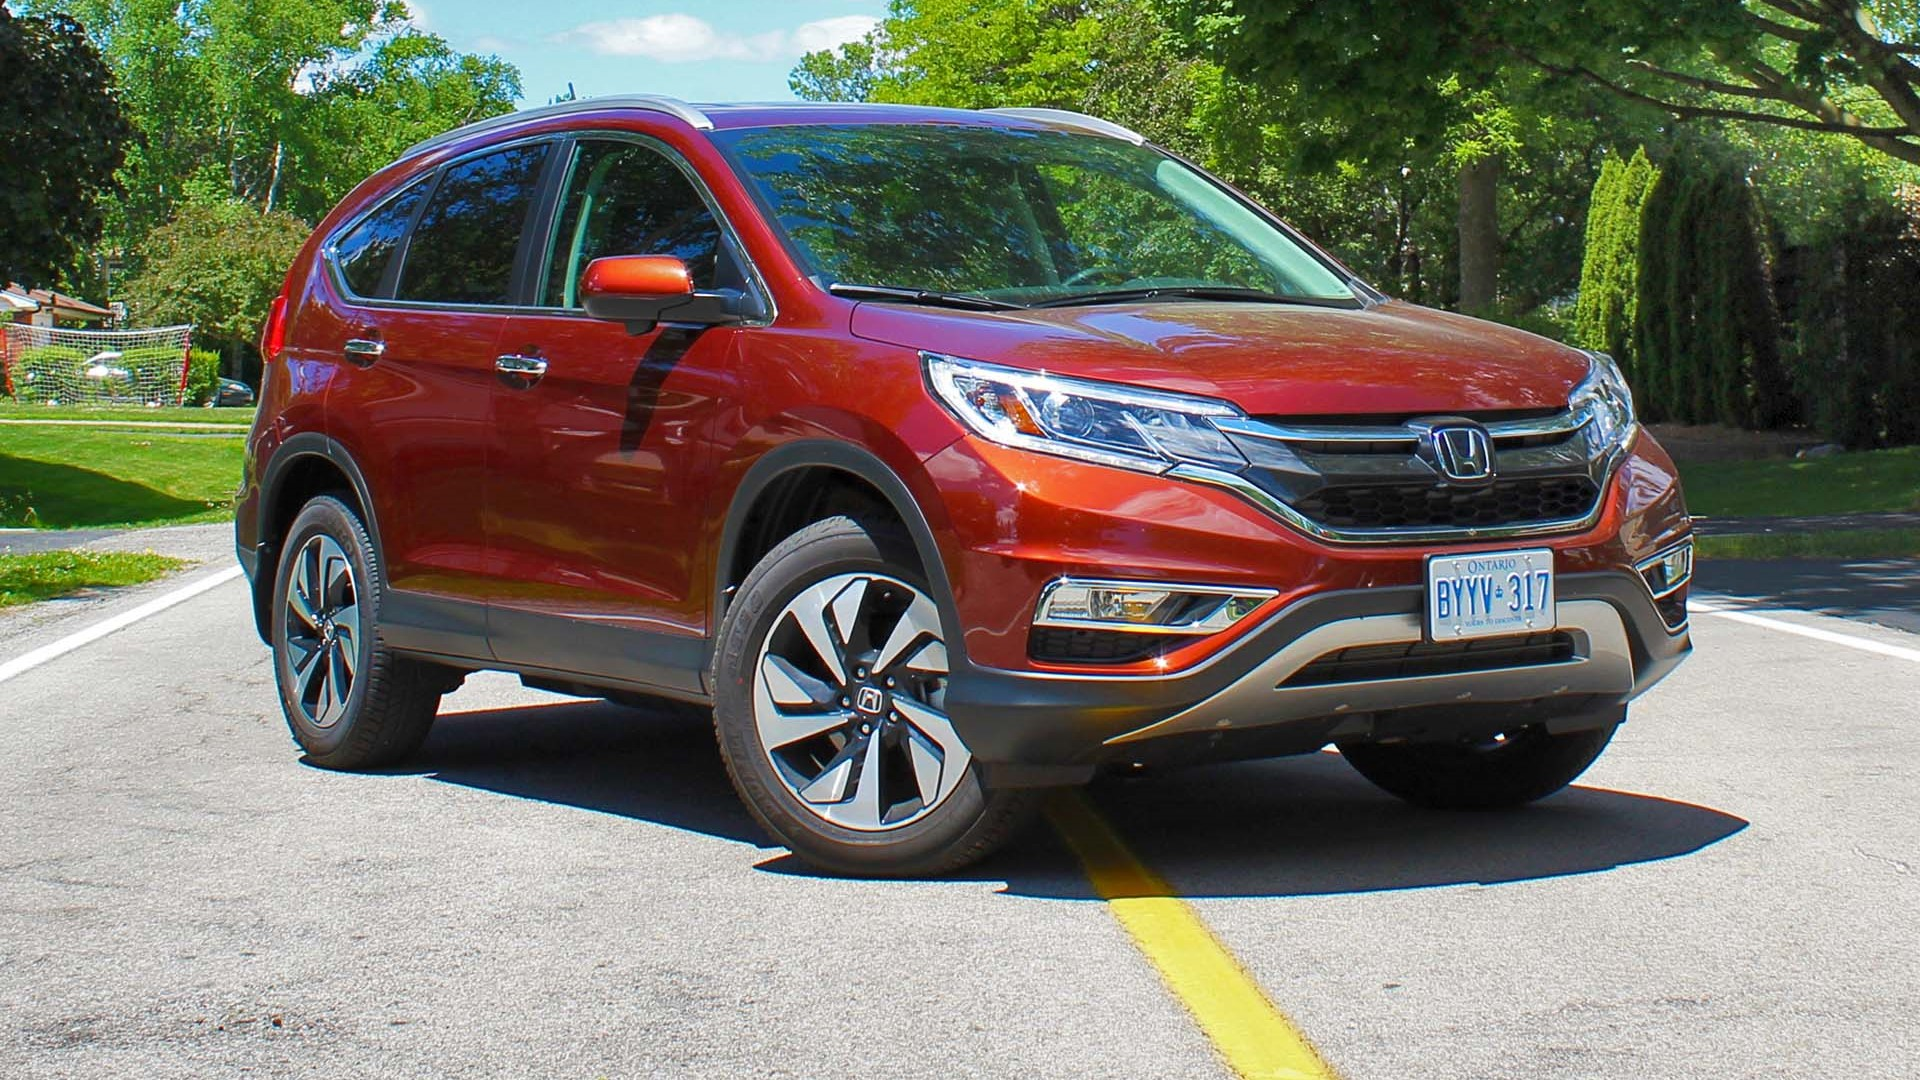crv: (210, 71, 1722, 942)
